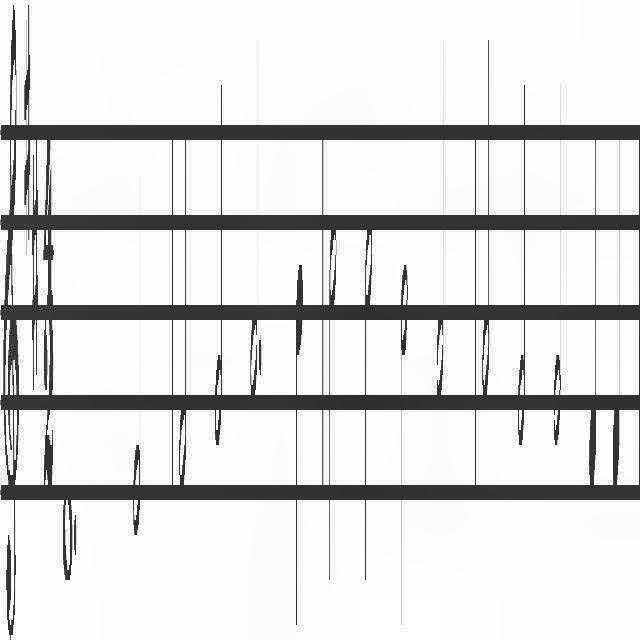Bass-clef: (1, 20, 22, 640)
Diez: (28, 151, 40, 385), (23, 0, 31, 312)
Full-note: (62, 473, 74, 595)
Half-note: (552, 15, 566, 521), (432, 0, 446, 464), (361, 174, 375, 584), (132, 117, 144, 583), (212, 38, 224, 470), (178, 125, 190, 531), (399, 215, 410, 640), (246, 27, 258, 406), (327, 216, 338, 620), (481, 22, 492, 398), (517, 53, 527, 459)
Quarter-note: (608, 80, 624, 580), (585, 83, 599, 525), (293, 238, 303, 640)
